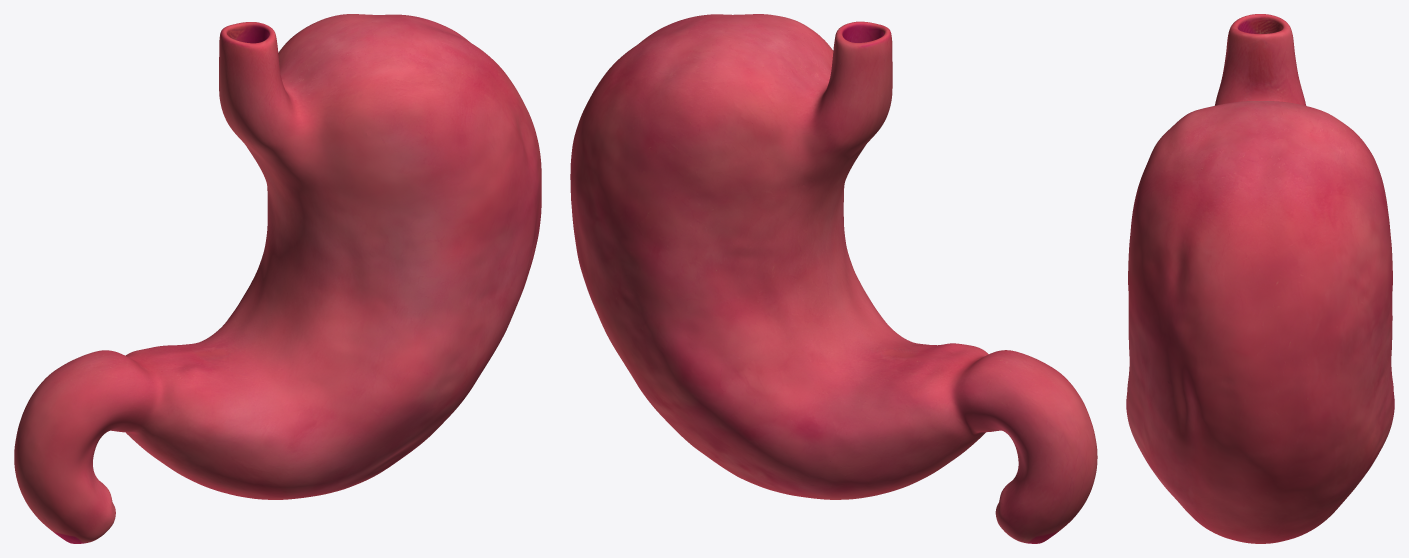
Rendered from Meshy_AI_Stomach_0518181855_texture.fbx.
3 views of the same model, side by side, from view 1: azimuth 30°, elevation 25°; view 2: azimuth 150°, elevation 25°; view 3: azimuth 270°, elevation 25° (orthographic).
Parts seen in each view (by area): view 1: Mesh_0; view 2: Mesh_0; view 3: Mesh_0.
Boxes of the visible parts, x1=… form: Mesh_0: x1=14, y1=14, x2=541, y2=543; Mesh_0: x1=570, y1=14, x2=1097, y2=543; Mesh_0: x1=1126, y1=14, x2=1394, y2=543.
Bounding box in the file's own units: 190 × 167 × 86.21.
1 material, 1 textured.
